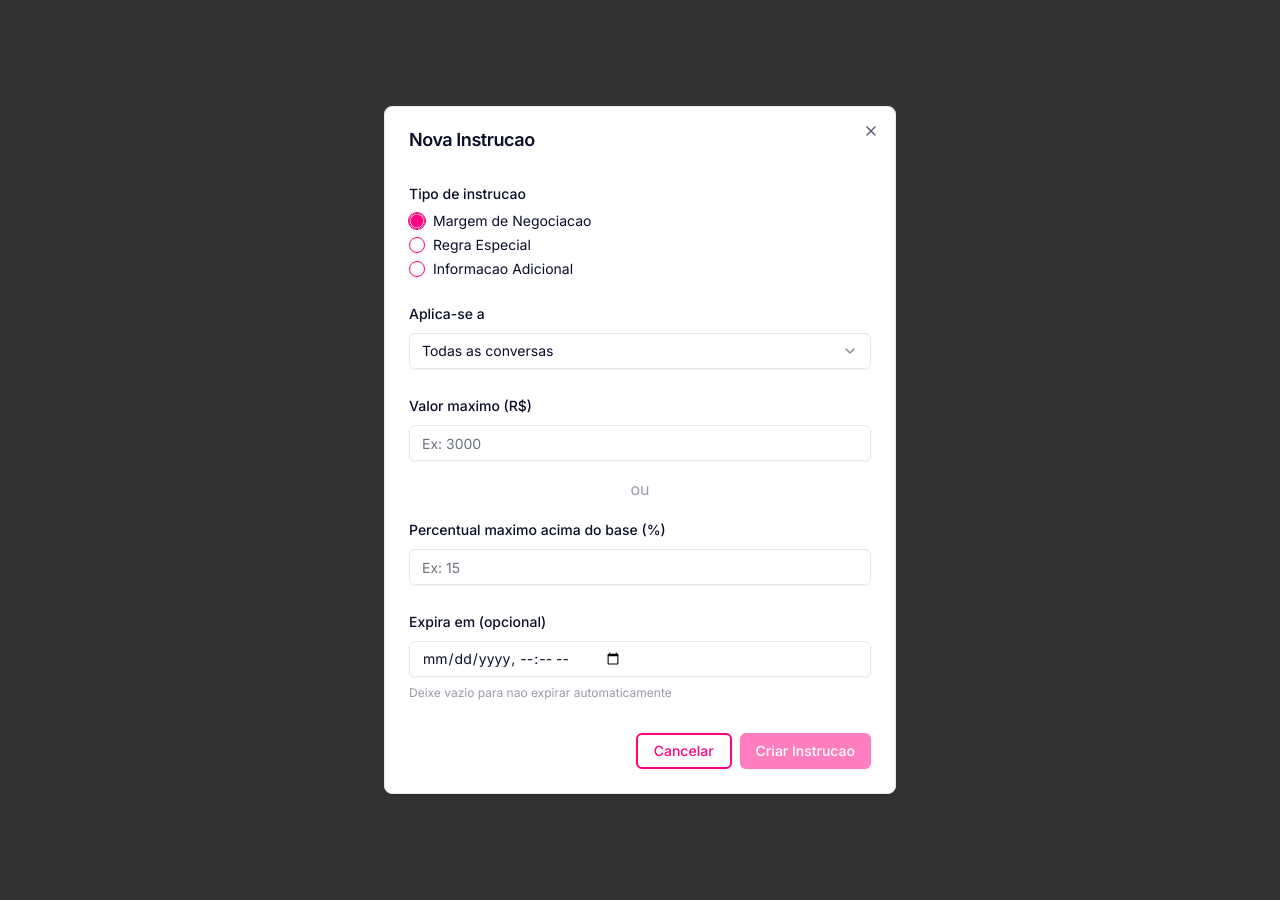
NovaInstrucaoDialog › deve mostrar campo de regra quando tipo regra_especial selecionado
Check: the text "Margem de Negociacao" is shown, box [433,214,592,228]
# Selecionar regra especial
Click the radio button named "Regra Especial" next to "Regra Especial": [417, 245] box [409,237,425,253]
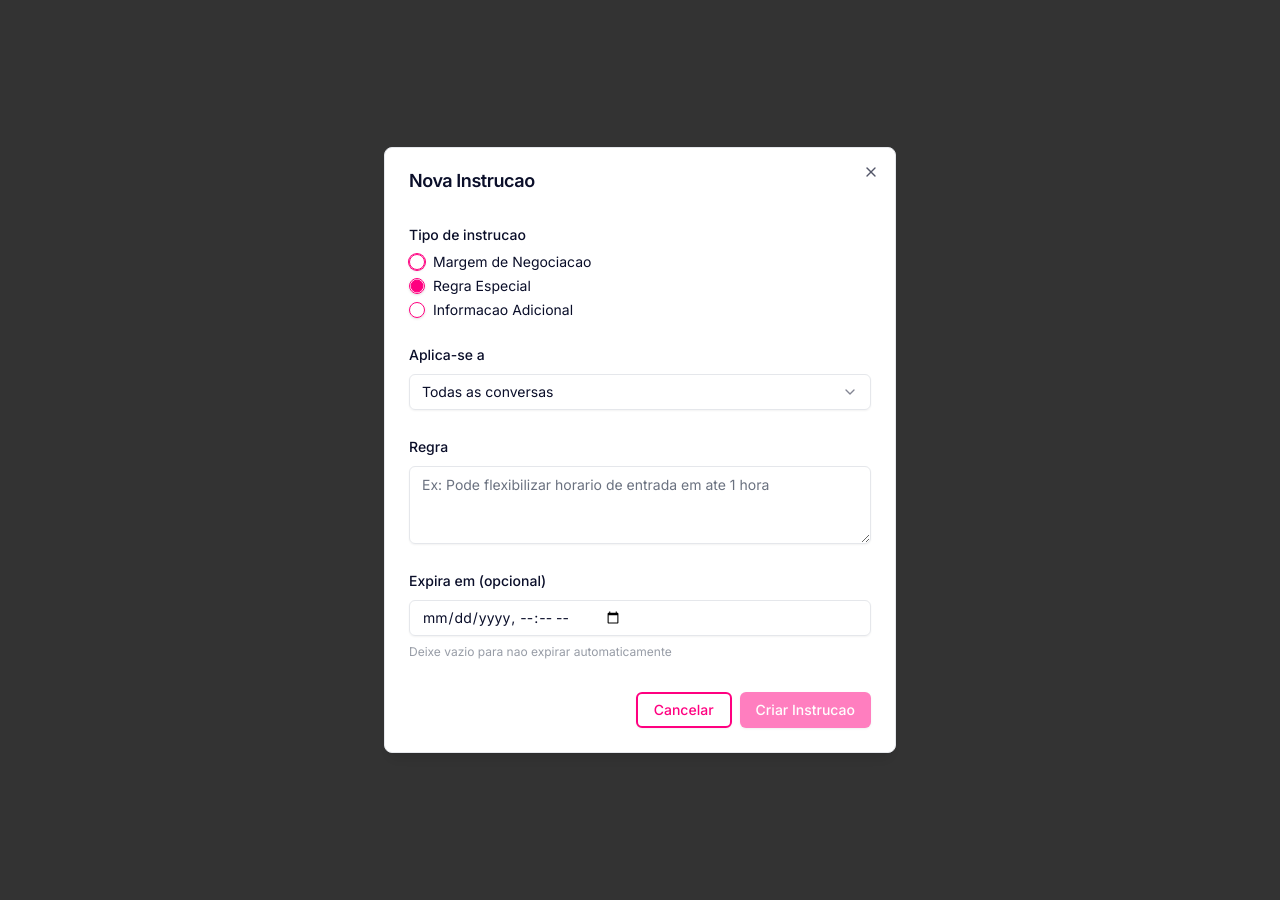
Check: the text "Regra" is shown, box [409,438,448,455]
